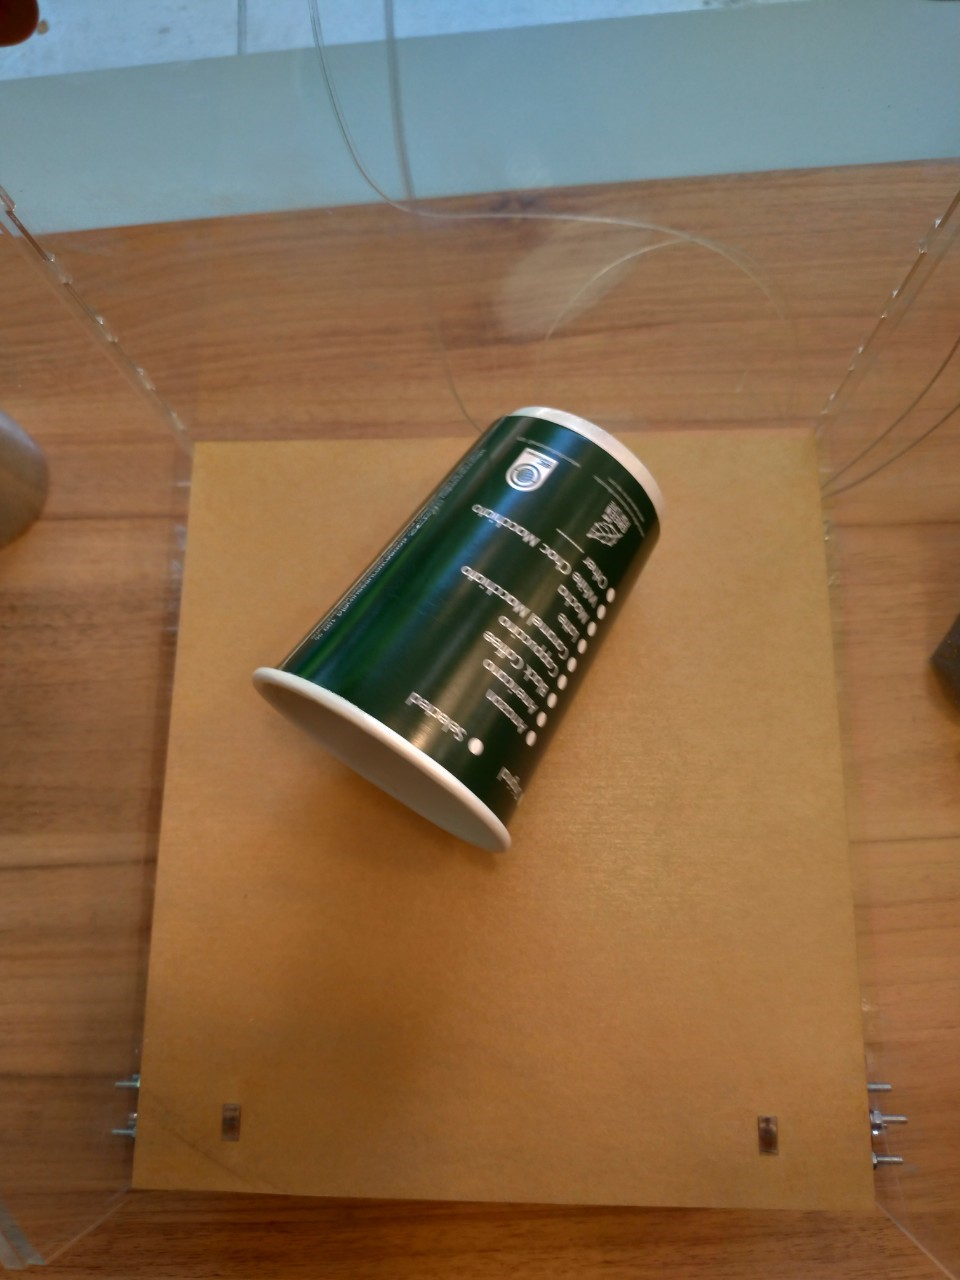PaperCup: (251, 402, 667, 855)
